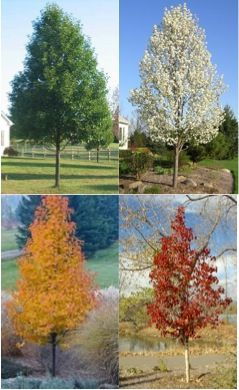tree: (6, 1, 114, 187), (126, 1, 229, 188), (3, 195, 102, 376), (146, 204, 233, 383)
